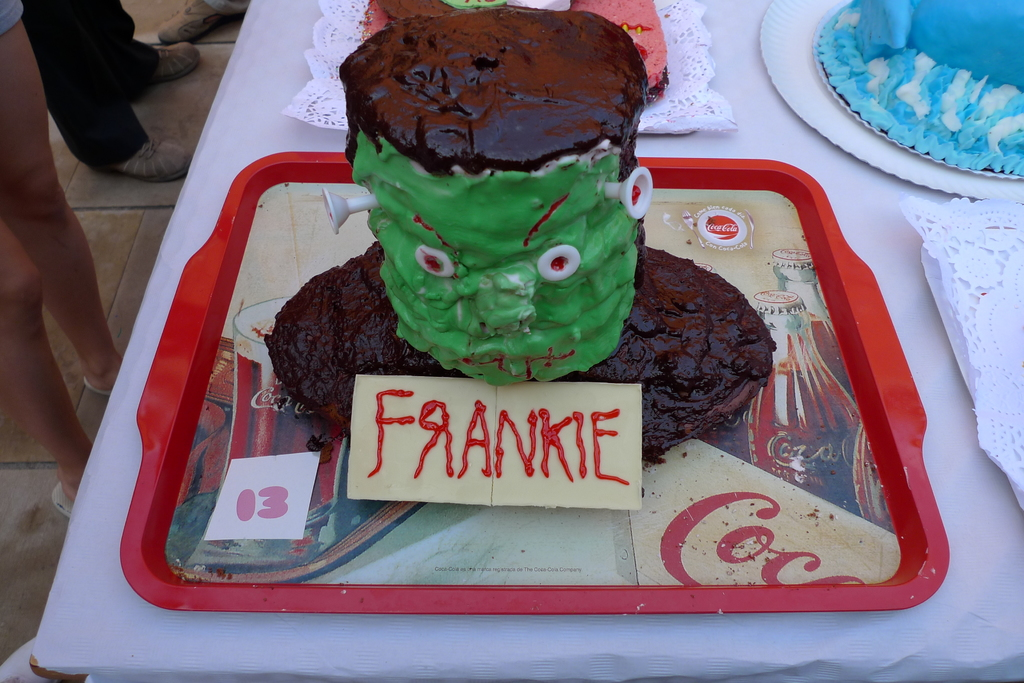person: (15, 0, 202, 183)
